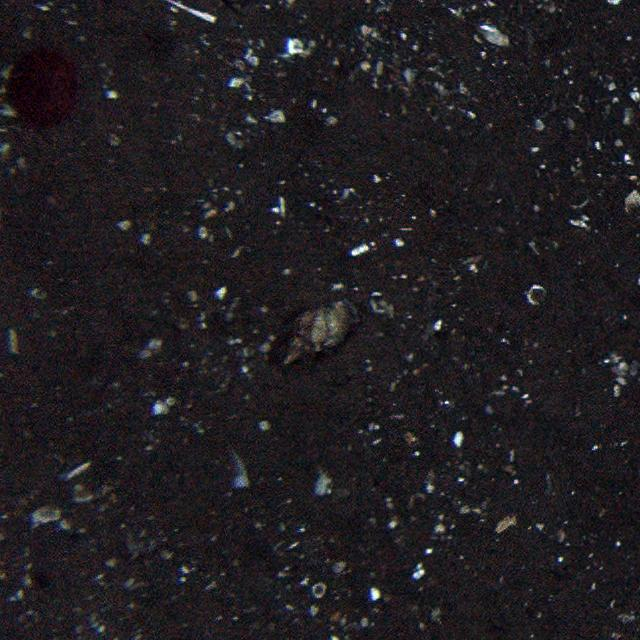whelk: (283, 295, 358, 369)
